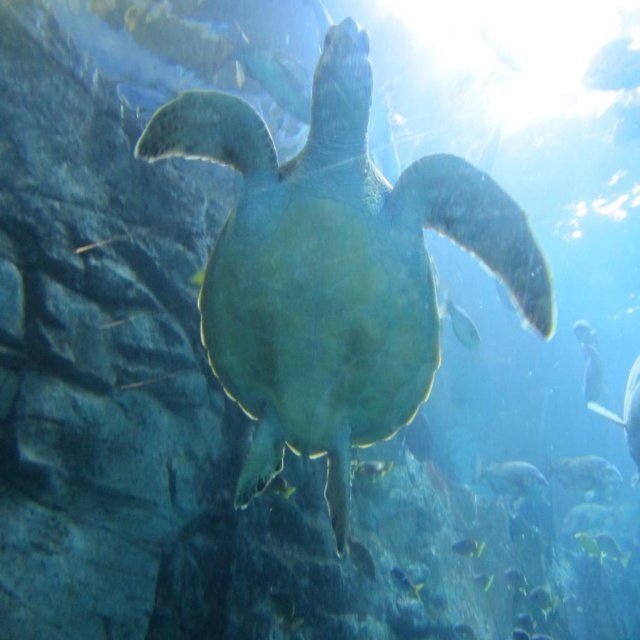Sea turtle: (134, 16, 558, 554)
